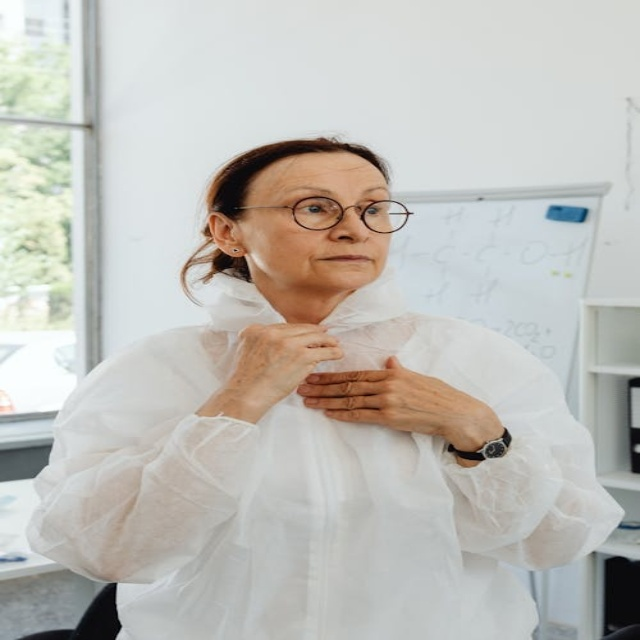Gafas: (232, 197, 415, 233)
Sin_guantes: (299, 352, 483, 440), (230, 317, 347, 397)
Sin_mascara: (302, 247, 378, 284)
